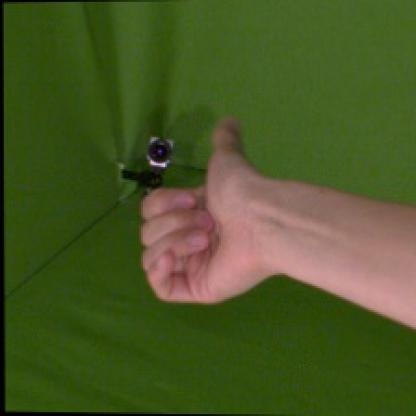Hand: (140, 116, 279, 307)
